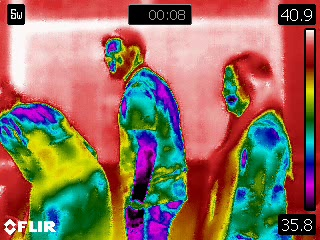human: (100, 24, 193, 240), (1, 74, 116, 240), (218, 49, 294, 240)
